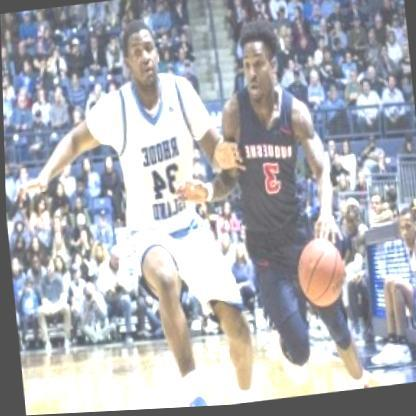basketball: (291, 238, 348, 317)
